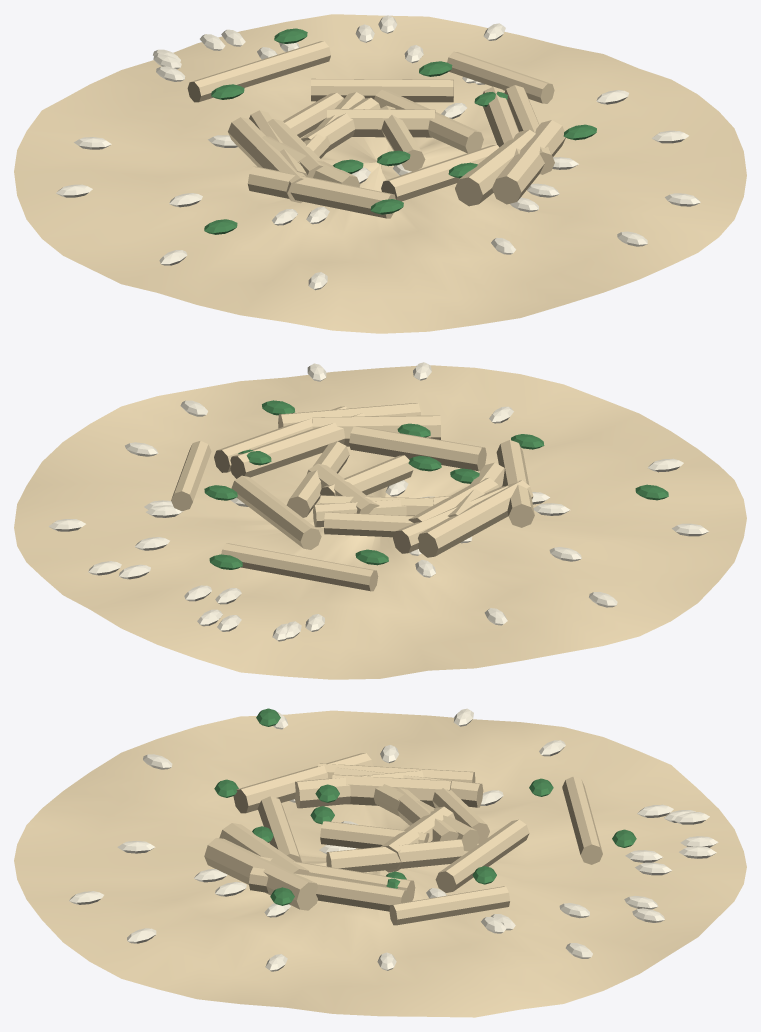
Rendered from FOOD_Congee_R07.glb.
The picture shows the model from 3 angles, top to bottom: view 1: azimuth 30°, elevation 25°; view 2: azimuth 150°, elevation 25°; view 3: azimuth 270°, elevation 25°; orthographic projection.
Parts seen in each view (by area): view 1: Thick_Porridge_Surface.002, Chicken_Strand_2, Chicken_Strand_17, Chicken_Strand_19, Chicken_Strand_5, Chicken_Strand_6, Chicken_Strand_8, Chicken_Strand_7, Chicken_Strand_18, Chicken_Strand_12, Chicken_Strand_4, Chicken_Strand_1 (+8 smaller); view 2: Thick_Porridge_Surface.002, Chicken_Strand_17, Chicken_Strand_8, Chicken_Strand_18, Chicken_Strand_10, Chicken_Strand_19, Chicken_Strand_2, Chicken_Strand_15, Chicken_Strand_7, Chicken_Strand_12, Chicken_Strand_16, Chicken_Strand_6 (+8 smaller); view 3: Thick_Porridge_Surface.002, Chicken_Strand_5, Chicken_Strand_12, Chicken_Strand_6, Chicken_Strand_1, Chicken_Strand_19, Chicken_Strand_2, Chicken_Strand_17, Chicken_Strand_9, Chicken_Strand_16, Chicken_Strand_11, Chicken_Strand_7 (+8 smaller).
Part boxes in pixels (x1,y1,x2,y2): Thick_Porridge_Surface.002: (14,14,746,333); Chicken_Strand_2: (247,166,395,218); Chicken_Strand_17: (187,41,330,102); Chicken_Strand_19: (311,78,453,102); Chicken_Strand_5: (492,120,565,204); Chicken_Strand_6: (447,51,554,103); Chicken_Strand_8: (381,145,499,201); Chicken_Strand_7: (455,129,535,206); Chicken_Strand_18: (228,117,305,203); Chicken_Strand_12: (374,89,483,153); Chicken_Strand_4: (327,109,435,137); Chicken_Strand_1: (504,85,554,174); Thick_Porridge_Surface.002: (14,365,746,679); Chicken_Strand_17: (221,543,378,591); Chicken_Strand_8: (349,426,486,471); Chicken_Strand_18: (418,480,533,557); Chicken_Strand_10: (230,413,365,478); Chicken_Strand_19: (231,475,321,549); Chicken_Strand_2: (496,440,534,527); Chicken_Strand_15: (324,512,414,537); Chicken_Strand_7: (312,415,440,446); Chicken_Strand_12: (286,441,349,517); Chicken_Strand_16: (320,455,413,496); Chicken_Strand_6: (171,440,211,511); Thick_Porridge_Surface.002: (14,710,746,1017); Chicken_Strand_5: (204,838,317,910); Chicken_Strand_12: (326,839,464,872); Chicken_Strand_6: (389,886,509,925); Chicken_Strand_1: (248,867,408,911); Chicken_Strand_19: (435,819,529,892); Chicken_Strand_2: (233,753,372,813); Chicken_Strand_17: (562,776,602,864); Chicken_Strand_9: (332,774,451,807); Chicken_Strand_16: (320,821,429,848); Chicken_Strand_11: (295,770,423,808); Chicken_Strand_7: (219,823,309,874).
Size of the model in its own units: 0.532 by 0.0444 by 0.532.
